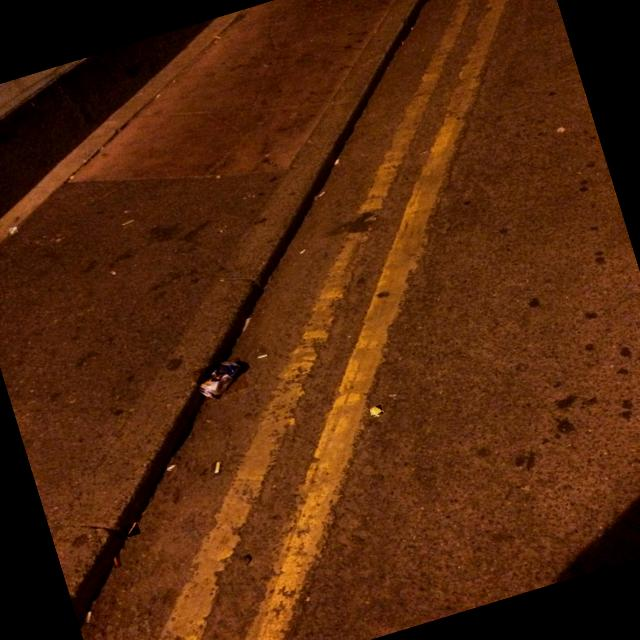Cigarette: (127, 522, 138, 537), (113, 556, 119, 568), (86, 611, 92, 622), (215, 462, 221, 473), (168, 464, 176, 470), (10, 227, 17, 233), (258, 354, 266, 358)
Drink can: (199, 361, 243, 398)
Unlabeled litter: (370, 406, 382, 415)
